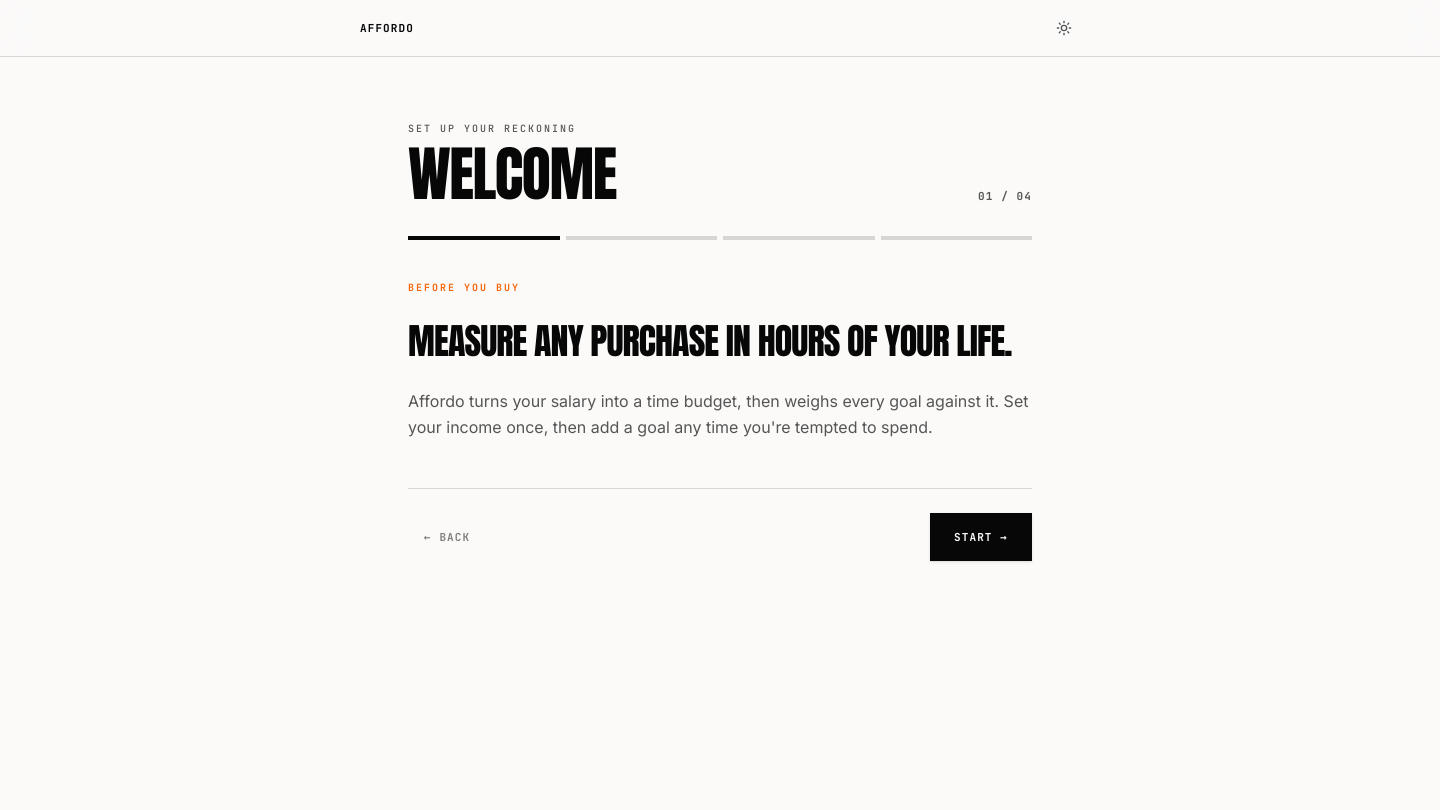
Test: OnboardingWizard — primary control label › reads Finish setup → on the last step
Click the button "Start →". click: x=981, y=537
box: [930,513,1032,561]
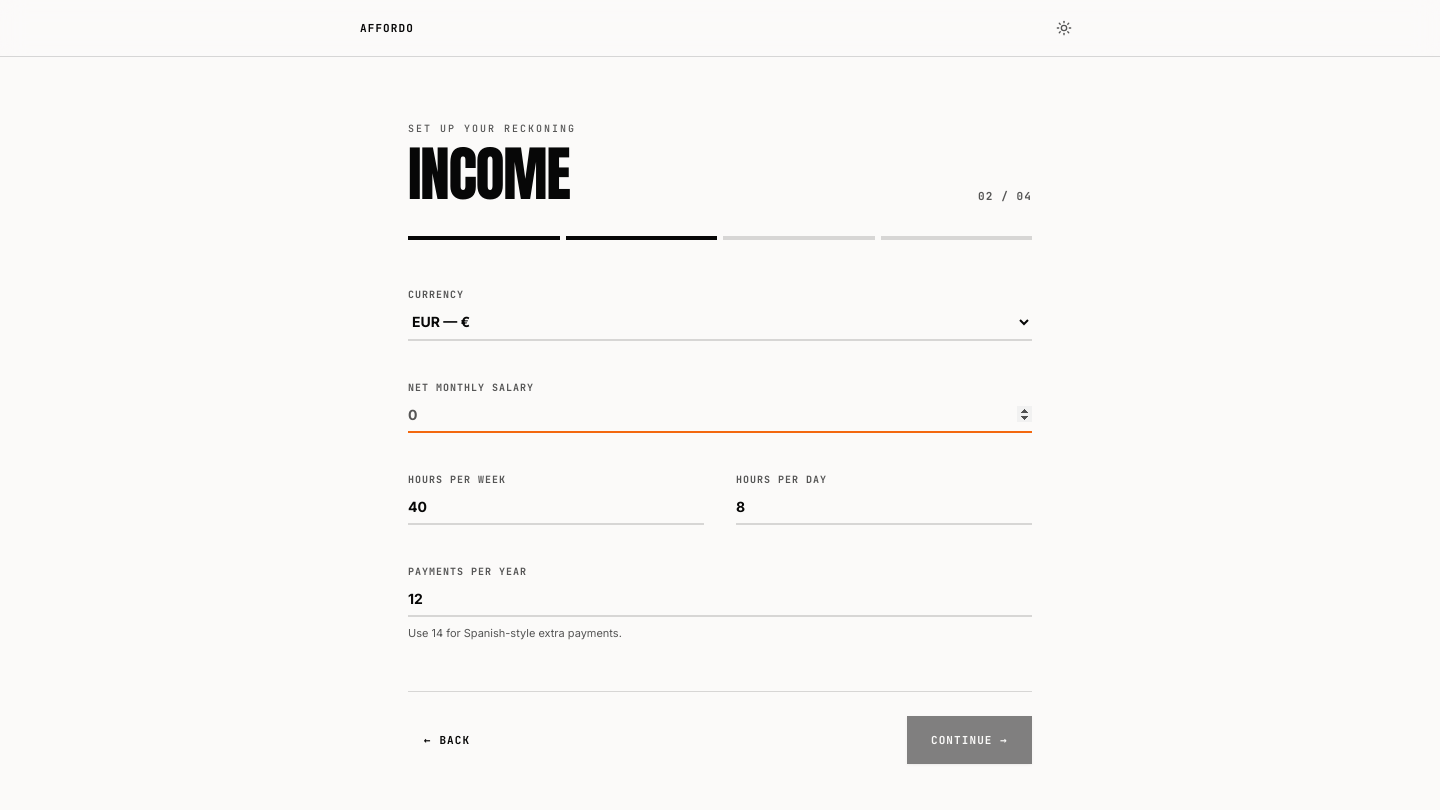
Type "2000" into the number field labelled "Net monthly salary". click: x=720, y=415
box: [408,397,1032,433]
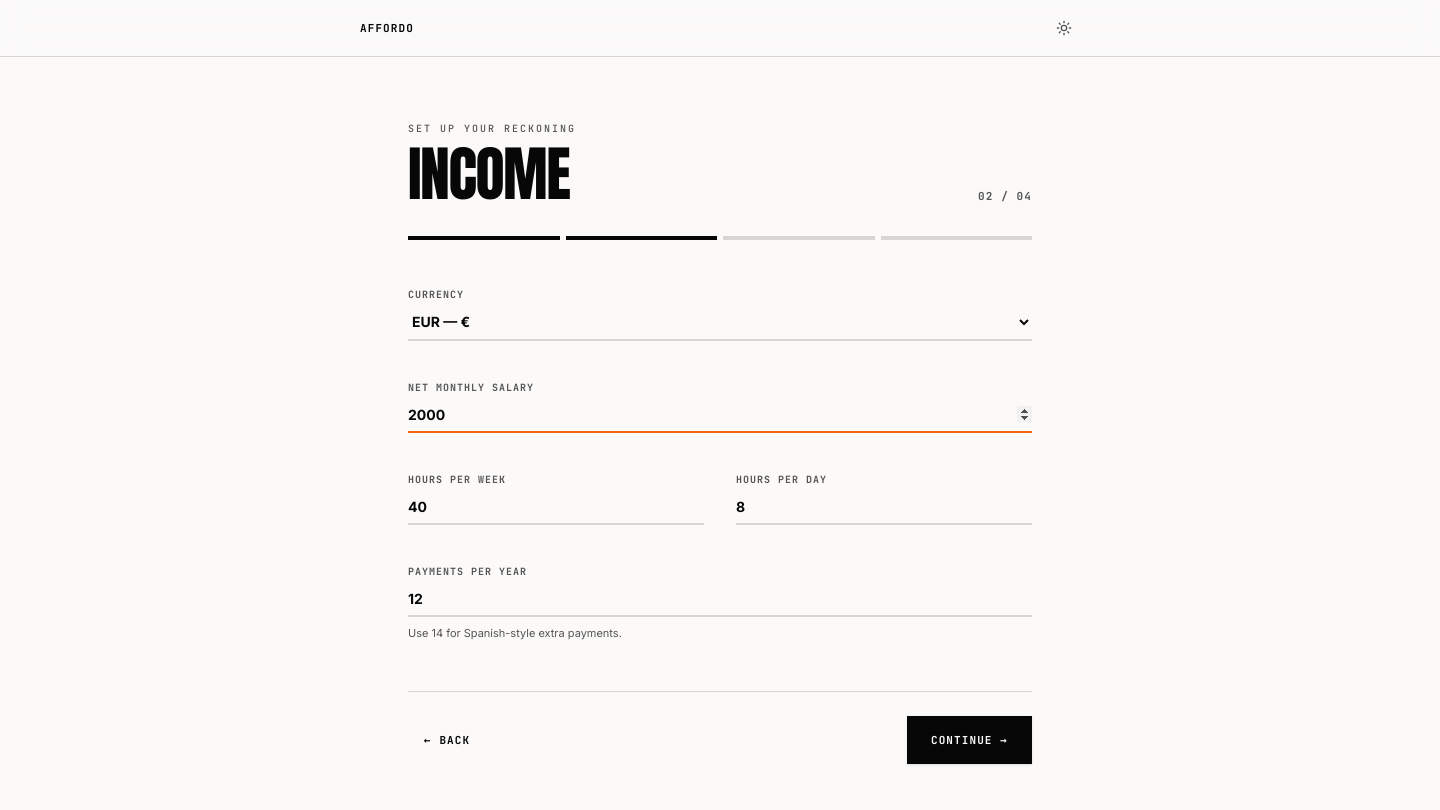
Click the button "Continue →". click: x=970, y=740
box: [907,716,1032,764]
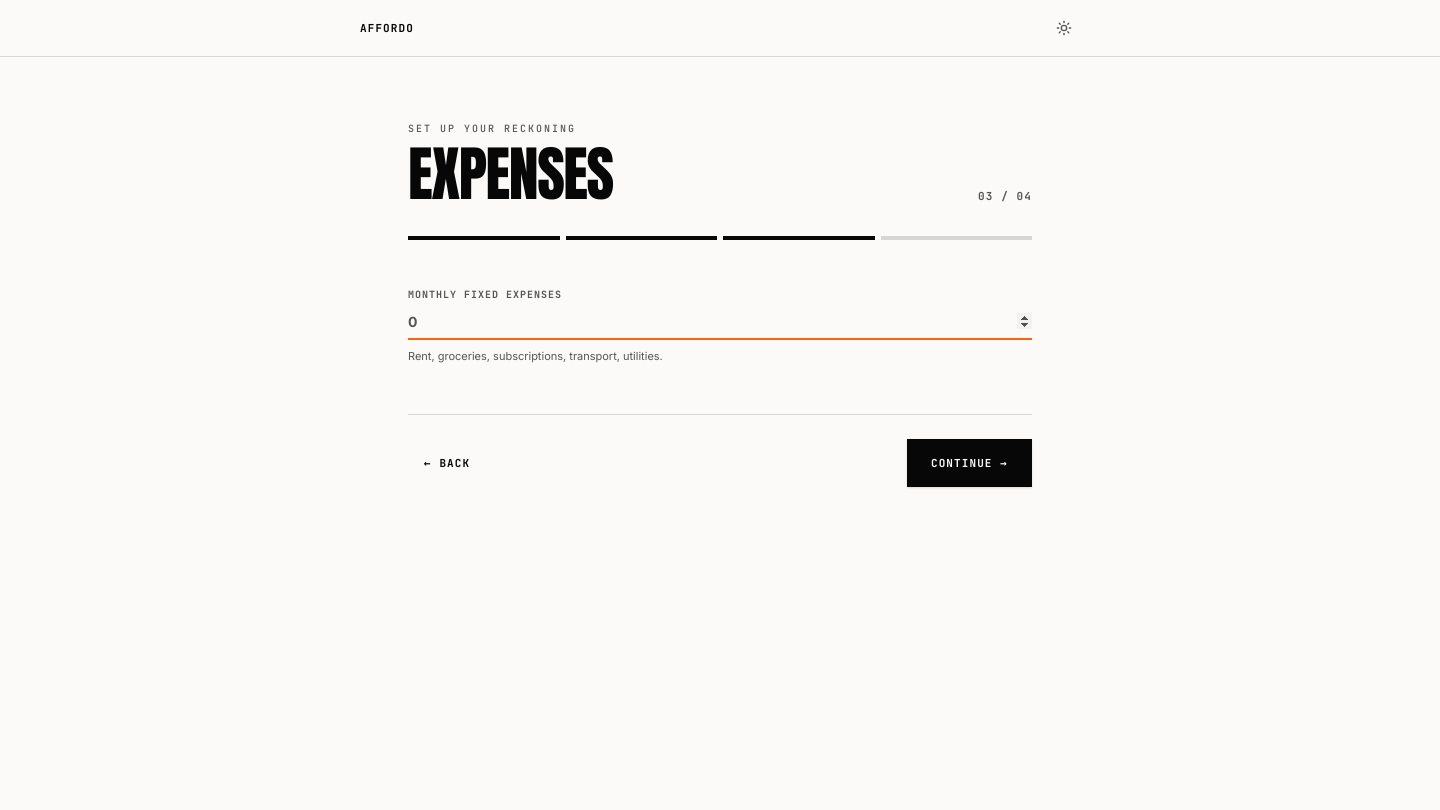
Click the button "Continue →". click: x=970, y=463
box: [907,439,1032,487]
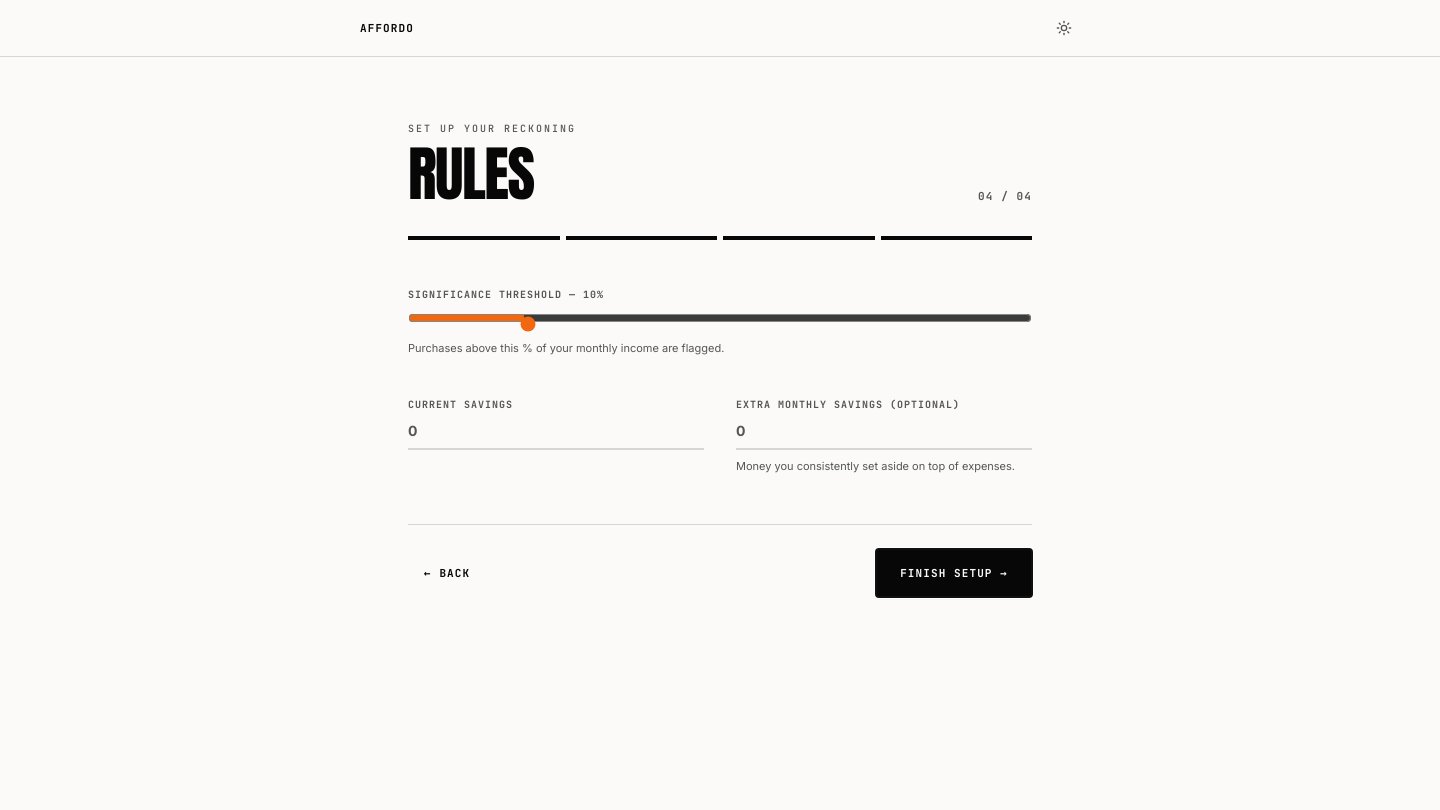
Check: the button "Finish setup →" is shown, box [876,549,1032,597]
Check: the text "04 / 04" is shown, box [978,188,1032,204]
Check: the heading "Rules" is shown, box [408,128,534,219]
